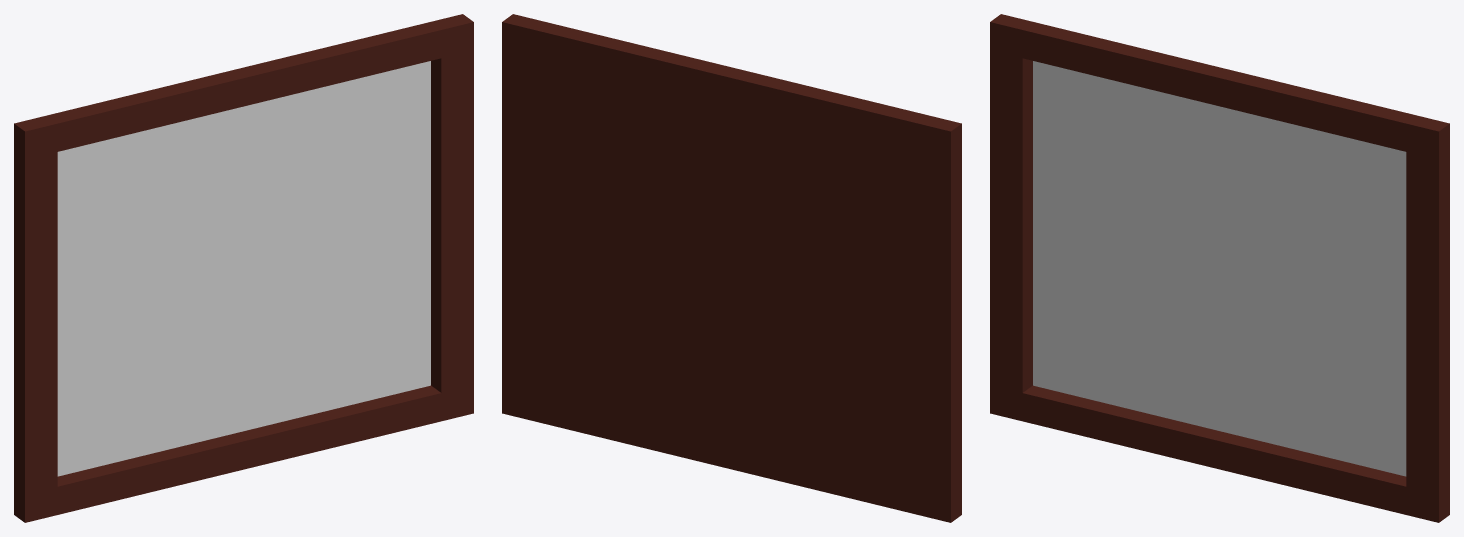
The model's file is picture.fbx.
The picture shows the model from 3 angles, left to right: view 1: azimuth 30°, elevation 25°; view 2: azimuth 150°, elevation 25°; view 3: azimuth 330°, elevation 25°; orthographic projection.
Parts seen in each view (by area): view 1: Cube.002; view 2: Cube.002; view 3: Cube.002.
Part boxes in pixels (bbox=[...]): Cube.002: bbox=[14, 14, 473, 522]; Cube.002: bbox=[502, 14, 961, 522]; Cube.002: bbox=[990, 14, 1449, 522].
Bounding box in the file's own units: 60.96 × 50.8 × 2.59.
